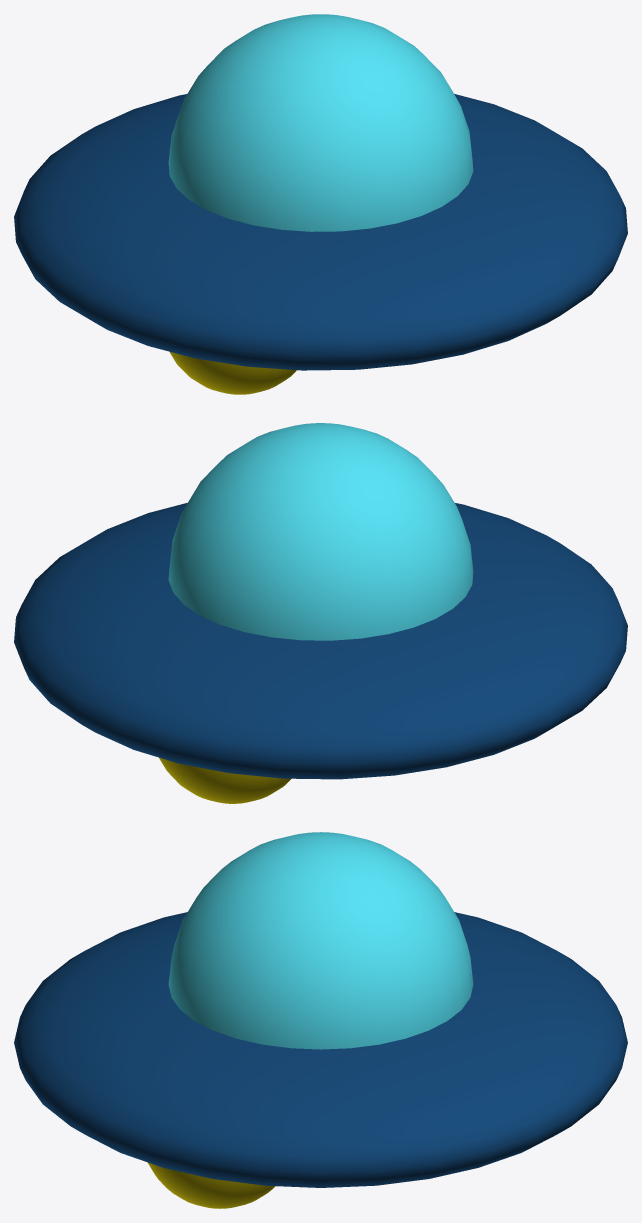
The model's file is ufo.obj.
3 renders of one model, top to bottom at view 1: azimuth 30°, elevation 25°; view 2: azimuth 150°, elevation 25°; view 3: azimuth 270°, elevation 25°, orthographic.
Parts seen in each view (by area): view 1: 球.001; view 2: 球.001; view 3: 球.001.
Part boxes in pixels (x1,y1,x2,y2): 球.001: [14, 14, 627, 394]; 球.001: [14, 423, 627, 803]; 球.001: [14, 832, 627, 1208].
Bounding box in the file's own units: 5.79 × 3.06 × 5.79.
Materials: 1 (1 with a texture image).
